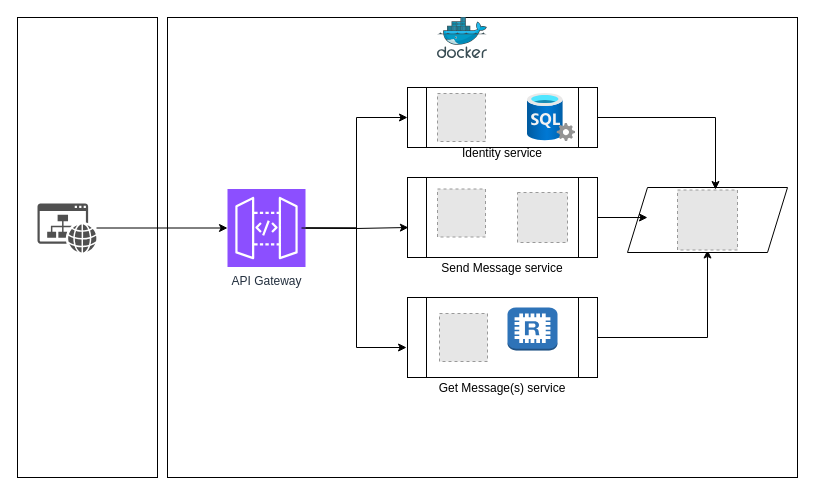
Some shapes in this 815 by 495 pixel diagram are drawn without their labels. Grey dashed boxes stand in for pictures. Each missing label, with the centre of its shape:
React (SPA ): [66,227]
Redis Cache: [532,328]
